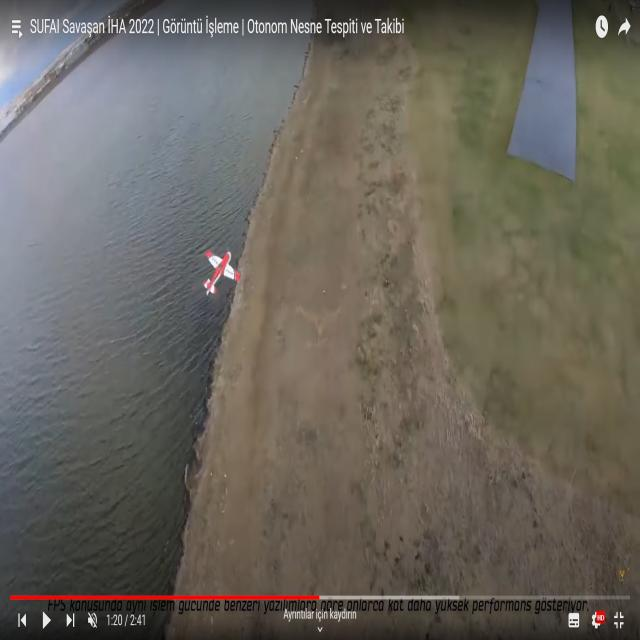iha: (202, 247, 241, 299)
